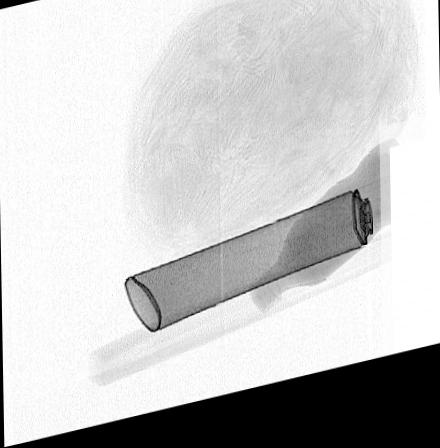Sprayer: (123, 190, 391, 339)
